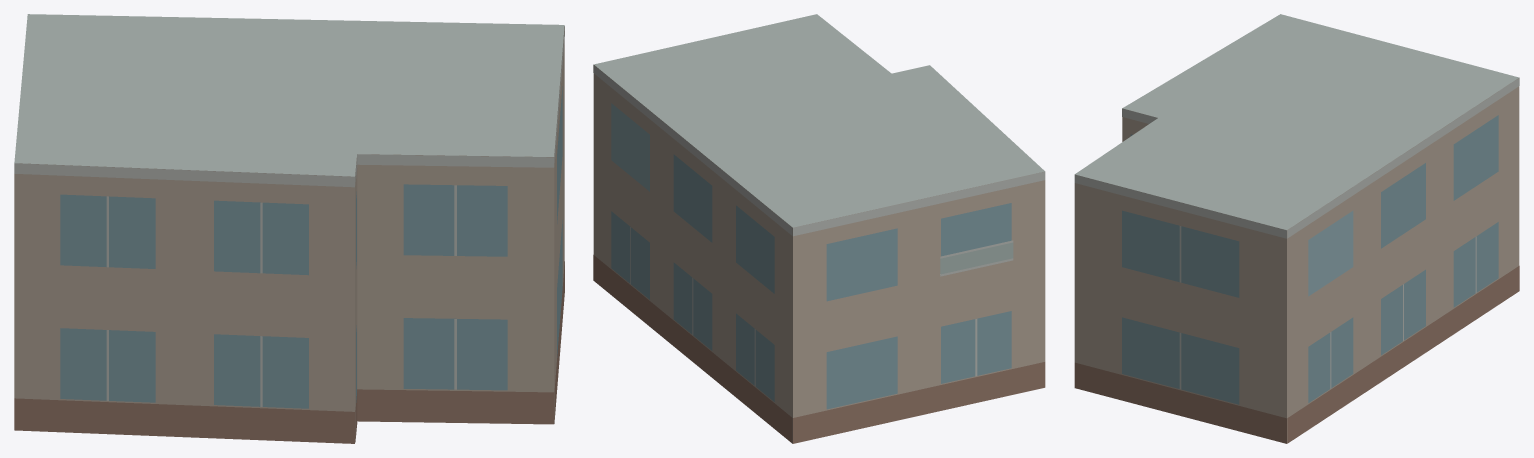
The model's file is survey-upis-32776824.glb.
The picture shows the model from 3 angles, left to right: view 1: azimuth 30°, elevation 25°; view 2: azimuth 150°, elevation 25°; view 3: azimuth 270°, elevation 25°; orthographic projection. The views are drawn at different scales.
Visible parts, largest first — view 1: survey-upis-32776824.tmp; view 2: survey-upis-32776824.tmp; view 3: survey-upis-32776824.tmp.
Part boxes in pixels (x1,y1,x2,y2): survey-upis-32776824.tmp: (14,14,564,443); survey-upis-32776824.tmp: (593,14,1045,443); survey-upis-32776824.tmp: (1074,14,1519,443).
Bounding box in the file's own units: 13.25 × 6.1 × 11.52.
